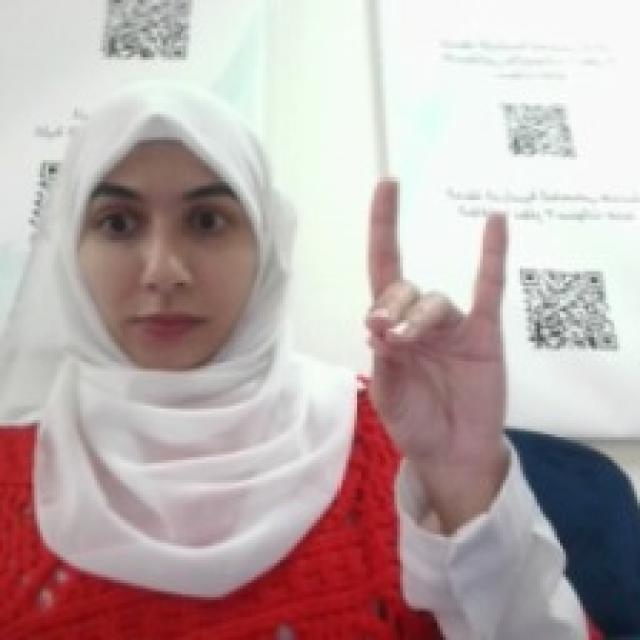Dog: (352, 168, 514, 466)
